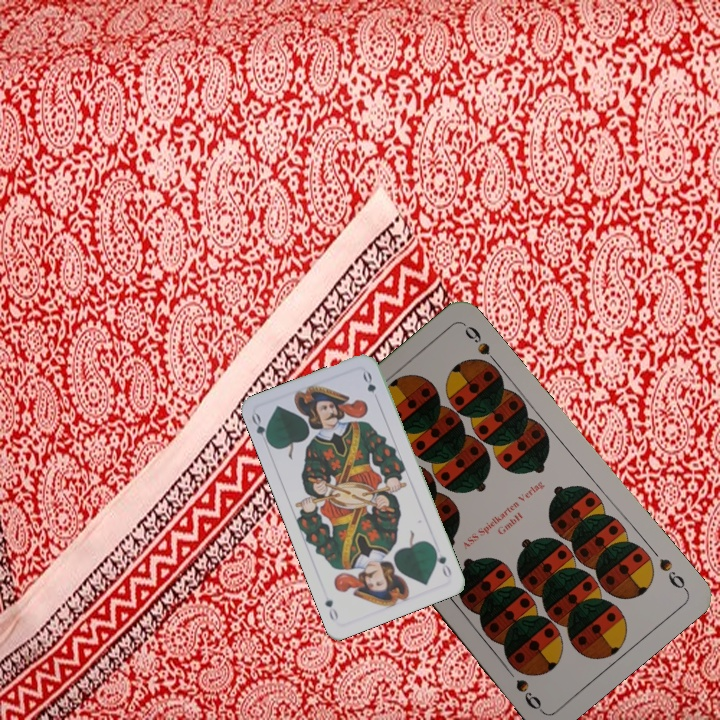GO: (247, 410, 273, 448), (429, 543, 454, 580)
S9: (654, 554, 690, 594)
